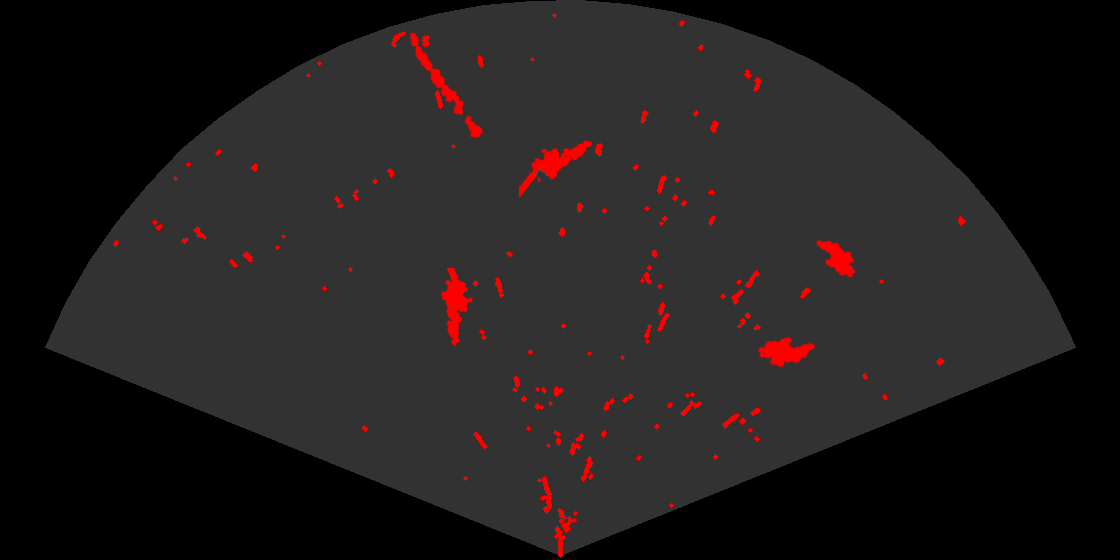AUV: (756, 335, 817, 369), (814, 238, 857, 280)
chain: (408, 31, 485, 140)
frogman: (519, 139, 594, 197), (440, 268, 474, 347)
